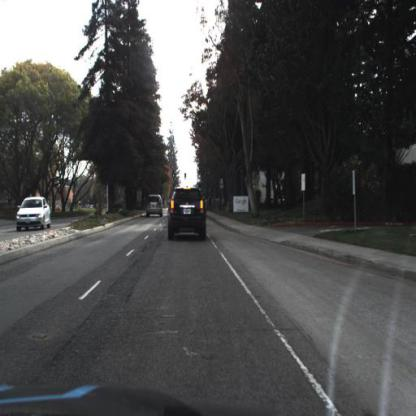car: (166, 184, 207, 240), (13, 194, 51, 232), (143, 191, 163, 218)
